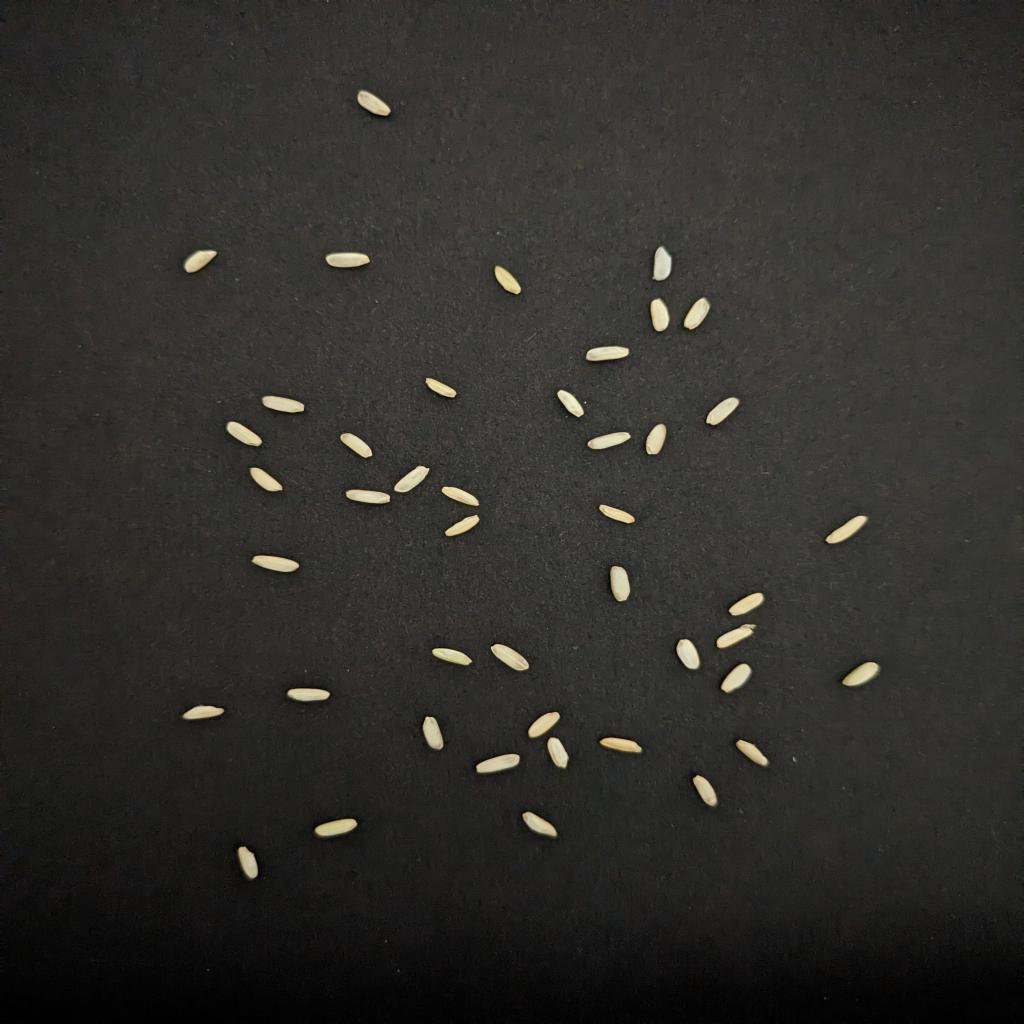chalky: (826, 516, 868, 544), (490, 644, 530, 670), (842, 662, 882, 686), (706, 398, 740, 426), (717, 624, 756, 648), (357, 90, 392, 116), (394, 466, 429, 492), (522, 812, 557, 838), (735, 740, 770, 766), (314, 818, 357, 838), (226, 422, 261, 446), (477, 754, 519, 774), (685, 298, 711, 330), (341, 432, 373, 458), (527, 712, 559, 738), (730, 592, 764, 616), (722, 664, 751, 692), (693, 776, 719, 806), (261, 396, 304, 414), (184, 250, 216, 274), (250, 468, 282, 492), (495, 266, 522, 294), (589, 432, 631, 450), (610, 566, 631, 602), (442, 486, 479, 506), (557, 390, 583, 418), (325, 252, 370, 268), (677, 640, 701, 670), (253, 556, 298, 572), (546, 738, 570, 768), (237, 846, 258, 880), (424, 716, 445, 750), (432, 648, 471, 666), (599, 504, 634, 524), (586, 346, 629, 362), (599, 738, 642, 754), (445, 516, 479, 536), (650, 298, 669, 332), (346, 490, 392, 504), (426, 378, 458, 398), (645, 424, 666, 454), (653, 246, 671, 280), (288, 688, 330, 702), (184, 706, 224, 720)
